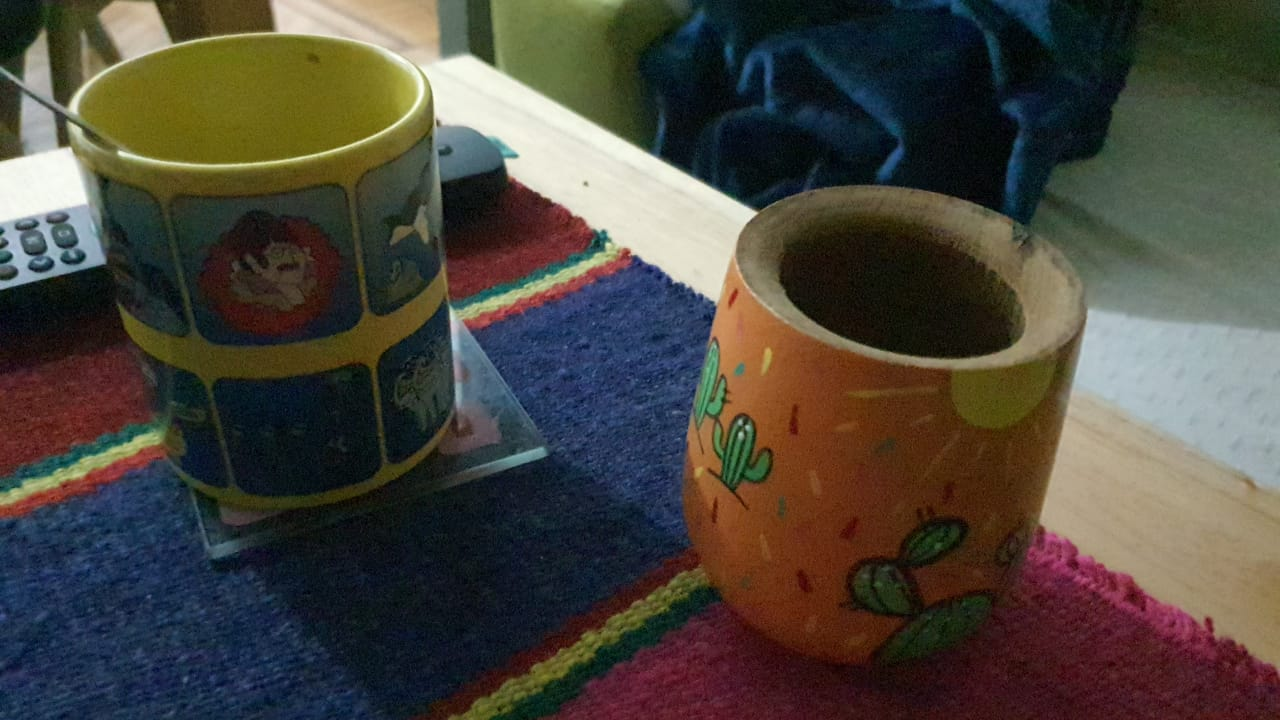madera: (677, 154, 1102, 681)
mate: (675, 145, 1115, 673)
